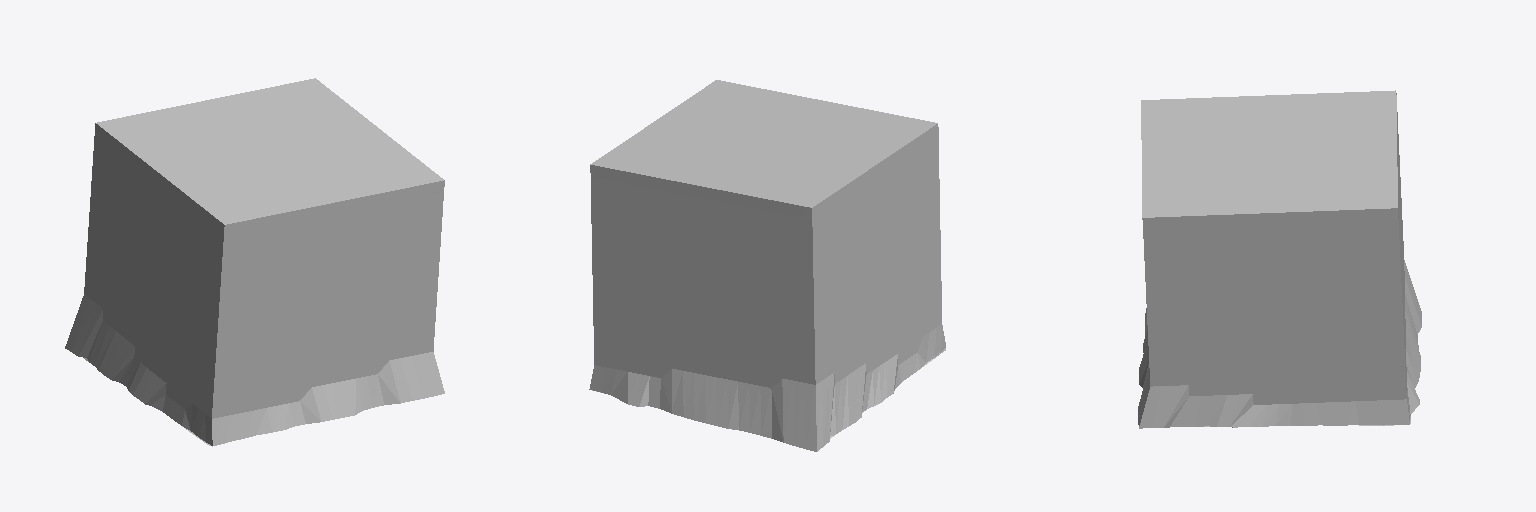
File: mod0031.obj
3 renders of one model, left to right at view 1: azimuth 30°, elevation 25°; view 2: azimuth 150°, elevation 25°; view 3: azimuth 270°, elevation 25°, orthographic.
Visible parts, largest first — view 1: Box001; view 2: Box001; view 3: Box001.
Part boxes in pixels (x1,y1,x2,y2): Box001: (65, 78, 444, 446); Box001: (589, 80, 945, 451); Box001: (1138, 90, 1421, 428).
Bounding box in the file's own units: 0.5831 × 0.5361 × 0.5979.